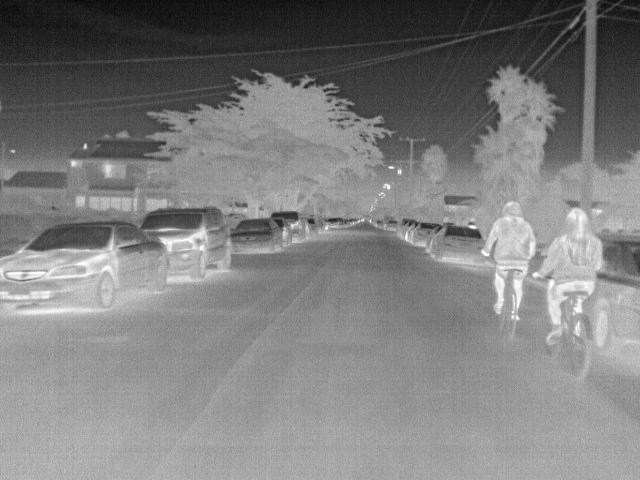car: (2, 219, 172, 315), (136, 206, 232, 288), (429, 224, 488, 265), (227, 217, 281, 258), (269, 211, 303, 240), (412, 222, 438, 248), (399, 219, 416, 239), (405, 222, 420, 244), (384, 220, 400, 232), (325, 218, 340, 230)
person: (532, 207, 608, 344), (482, 198, 538, 322)
